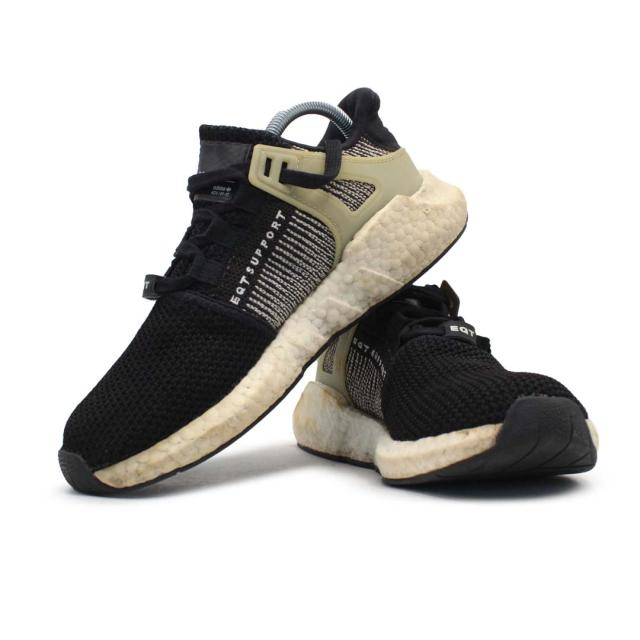heel: (344, 89, 419, 206)
midsole: (95, 171, 469, 488), (291, 379, 499, 482)
uppersole: (63, 124, 385, 472), (315, 282, 590, 441)
